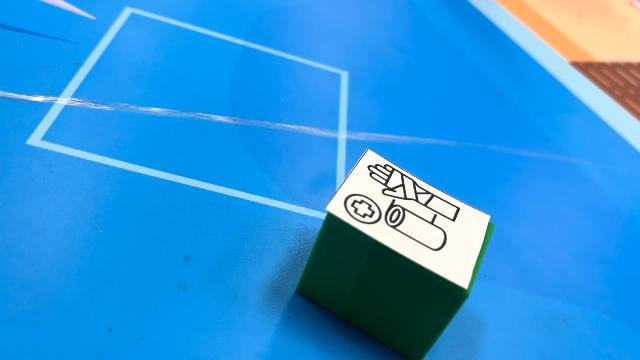bandage: (294, 147, 493, 358)
